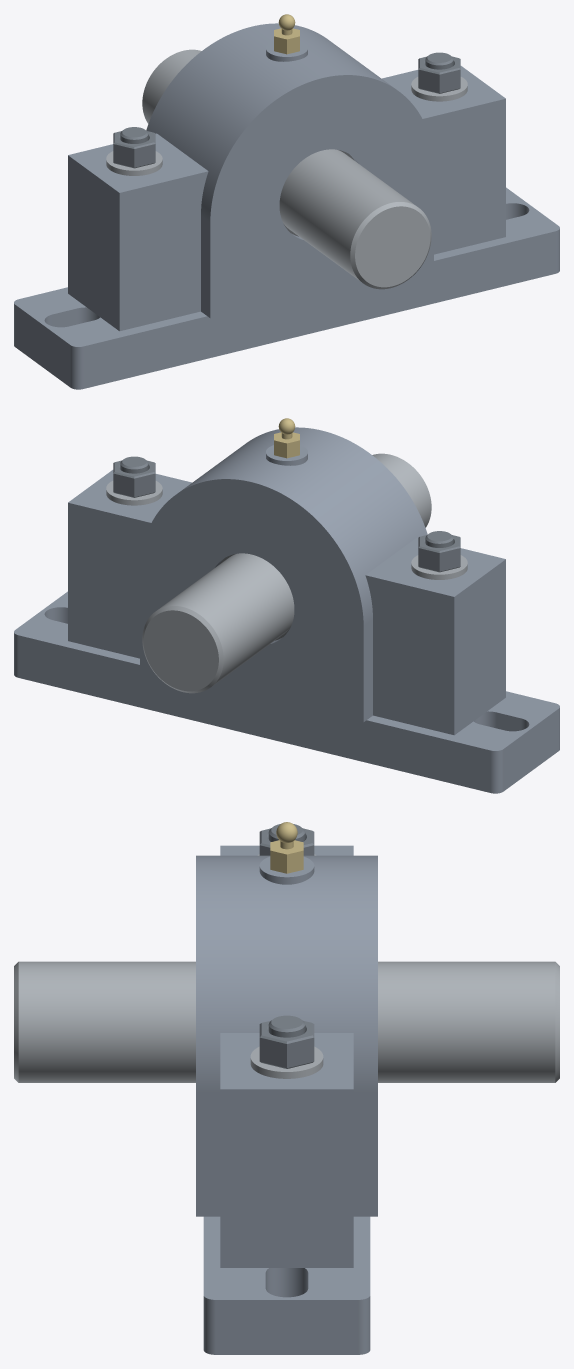
The model's file is plummer_block.glb.
3 views of the same model, one above another, from view 1: azimuth 30°, elevation 25°; view 2: azimuth 150°, elevation 25°; view 3: azimuth 270°, elevation 25° (orthographic). The views are drawn at different scales.
Visible parts, largest first — view 1: housing base, housing cap, shaft, nut 1, nut 2, grease nipple M6, washer 1, washer 2; view 2: housing base, housing cap, shaft, nut 1, nut 2, grease nipple M6, washer 1, washer 2; view 3: housing cap, shaft, housing base, nut 1, grease nipple M6, washer 1, stud 1.
Boxes of the visible parts, x1,y1,x2,y2 form: housing base: (14,141,559,389); housing cap: (68,23,505,235); shaft: (142,49,431,289); nut 1: (418,56,460,93); nut 2: (113,131,155,168); grease nipple M6: (274,14,299,54); washer 1: (411,77,467,101); washer 2: (106,151,162,175); housing base: (14,545,559,793); housing cap: (68,427,505,639); shaft: (142,453,431,693); nut 1: (113,460,155,497); nut 2: (418,535,460,572); grease nipple M6: (274,418,299,458); washer 1: (106,481,162,505); washer 2: (411,555,467,579); housing cap: (196,845,377,1144); shaft: (14,961,559,1082); housing base: (196,1093,377,1354); nut 1: (259,1020,314,1068); grease nipple M6: (270,822,303,873); washer 1: (250,1046,323,1078); stud 1: (268,1015,305,1037).
Bounding box in the file's own units: 240 × 138 × 180.
